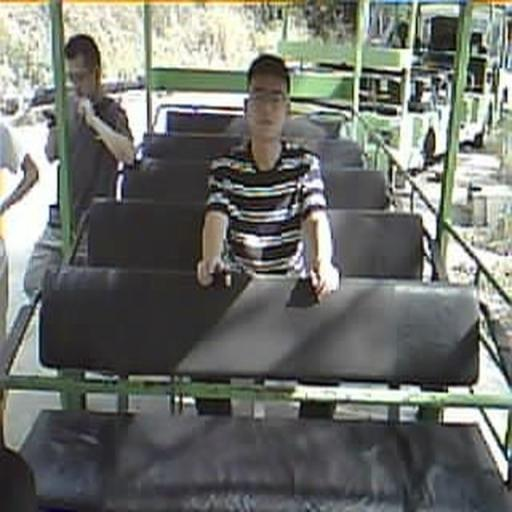persona: (196, 52, 342, 302)
